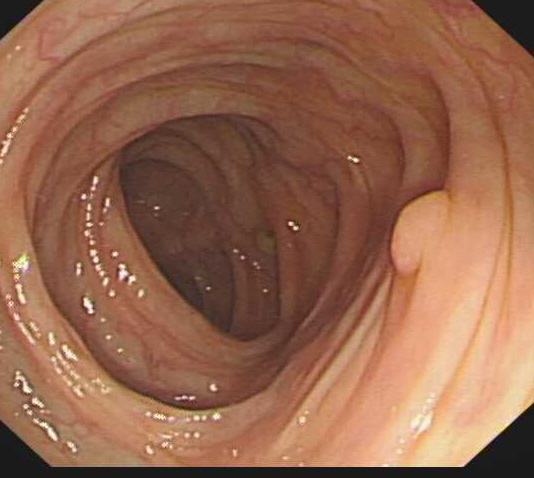adenoma: (387, 188, 450, 278)
